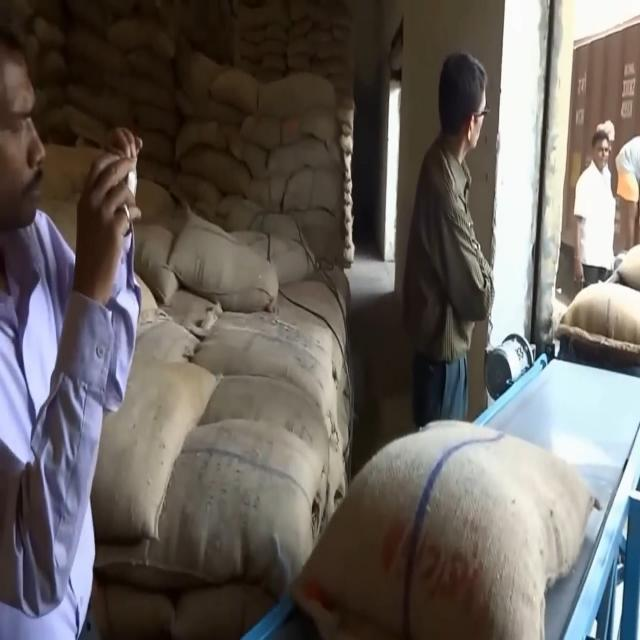gunny_bag: (288, 416, 599, 640), (90, 416, 329, 590), (86, 354, 226, 546), (192, 302, 342, 424), (164, 198, 278, 314), (553, 280, 640, 365), (260, 69, 344, 126), (182, 144, 256, 200), (282, 162, 348, 218), (105, 15, 177, 66), (208, 63, 268, 119), (263, 138, 346, 178), (70, 84, 134, 130), (178, 115, 220, 156), (614, 240, 640, 294)
